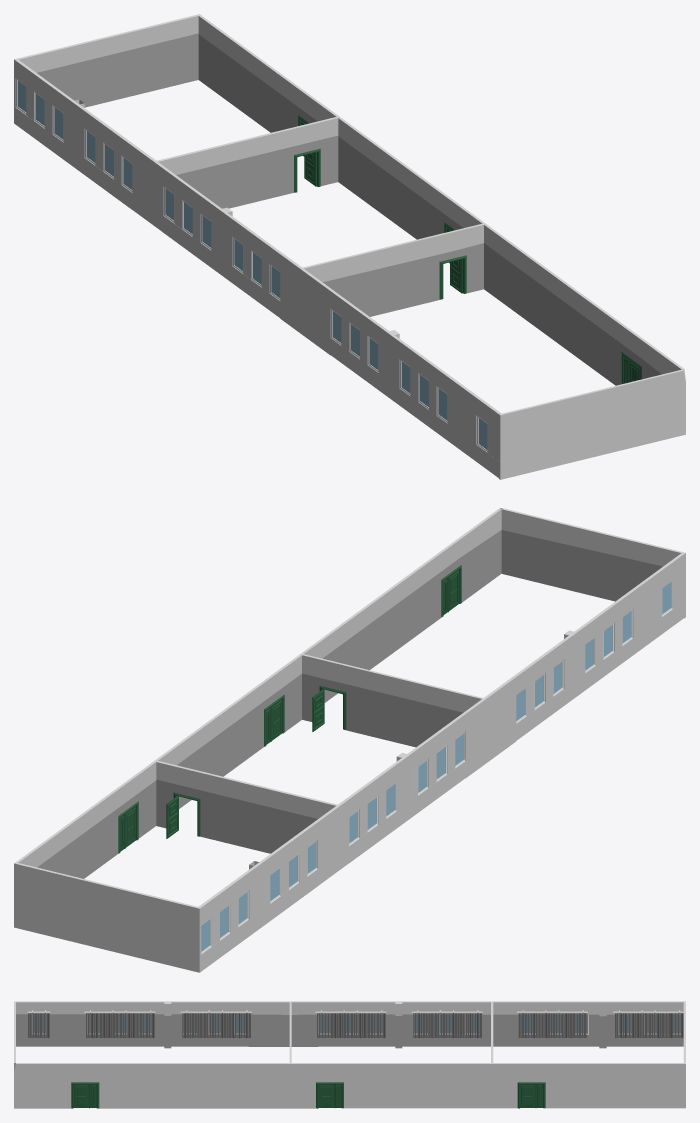
File: camera_nivel.fbx
3 views of the same model, one above another, from view 1: azimuth 30°, elevation 25°; view 2: azimuth 150°, elevation 25°; view 3: azimuth 270°, elevation 25° (orthographic). The views are drawn at different scales.
Visible parts, largest first — view 1: Pereti; view 2: Pereti, Usa.002, Usa, Usa.001; view 3: Pereti, Cube.025, Cube.008, Cube.009, Cube.018, Cube.017, Cube.026, Usa, Usa.002, Usa.001, Cube.010.
Boxes of the visible parts, x1,y1,x2,y2 form: Pereti: (14,14,685,479); Pereti: (14,508,685,972); Usa.002: (118,801,138,853); Usa: (441,565,461,616); Usa.001: (264,694,284,746); Pereti: (14,1001,685,1108); Cube.025: (517,1010,587,1038); Cube.008: (84,1010,155,1038); Cube.009: (180,1010,251,1038); Cube.018: (411,1010,482,1038); Cube.017: (315,1010,386,1038); Cube.026: (613,1010,683,1038); Usa: (71,1082,99,1108); Usa.002: (517,1082,545,1108); Usa.001: (316,1082,343,1108); Cube.010: (27,1010,50,1038).
Size of the model in its own units: 4063 by 1343 by 18326.
